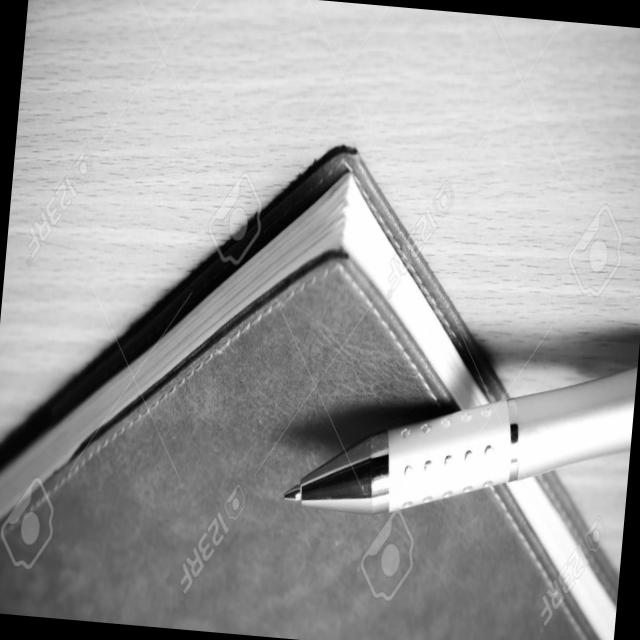pen: (241, 333, 632, 590)
